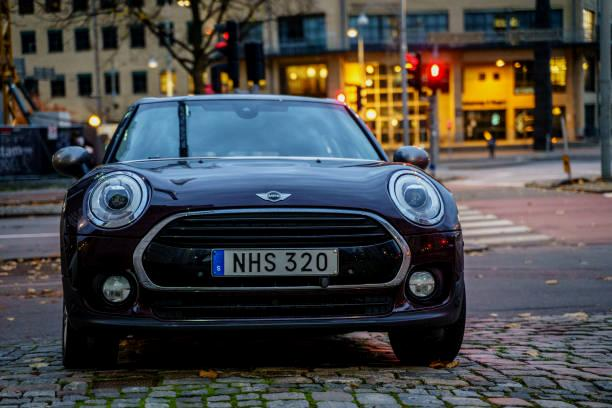mini: (253, 181, 296, 214)
